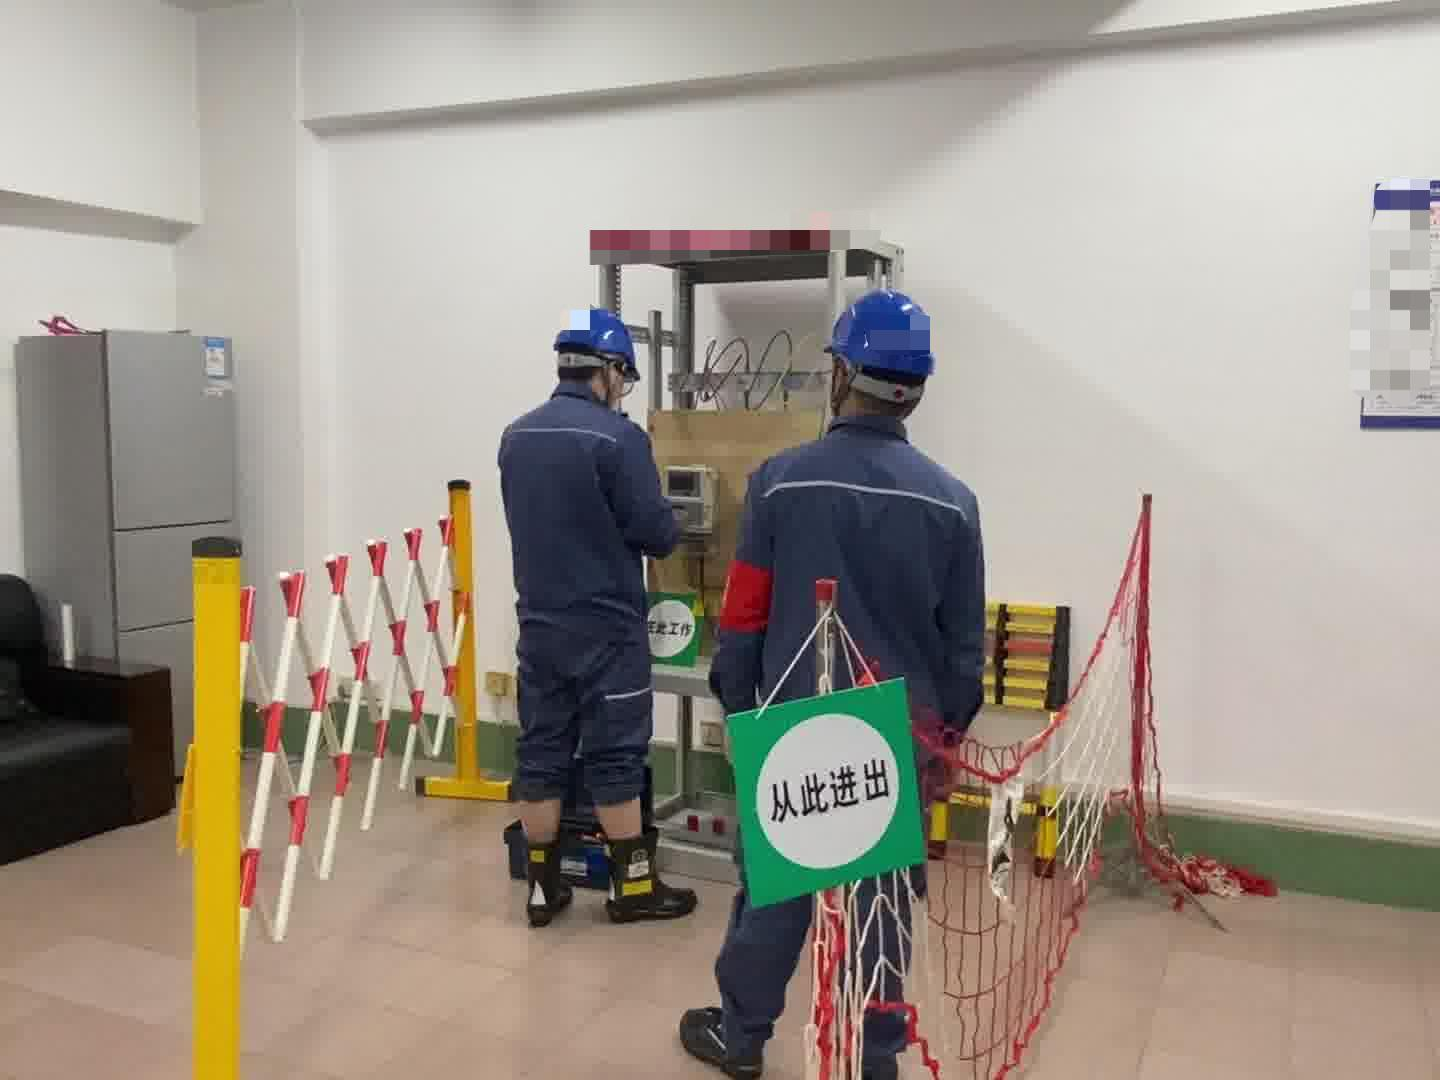halt: (830, 294, 941, 429), (553, 307, 643, 400)
inear: (598, 357, 626, 402)
